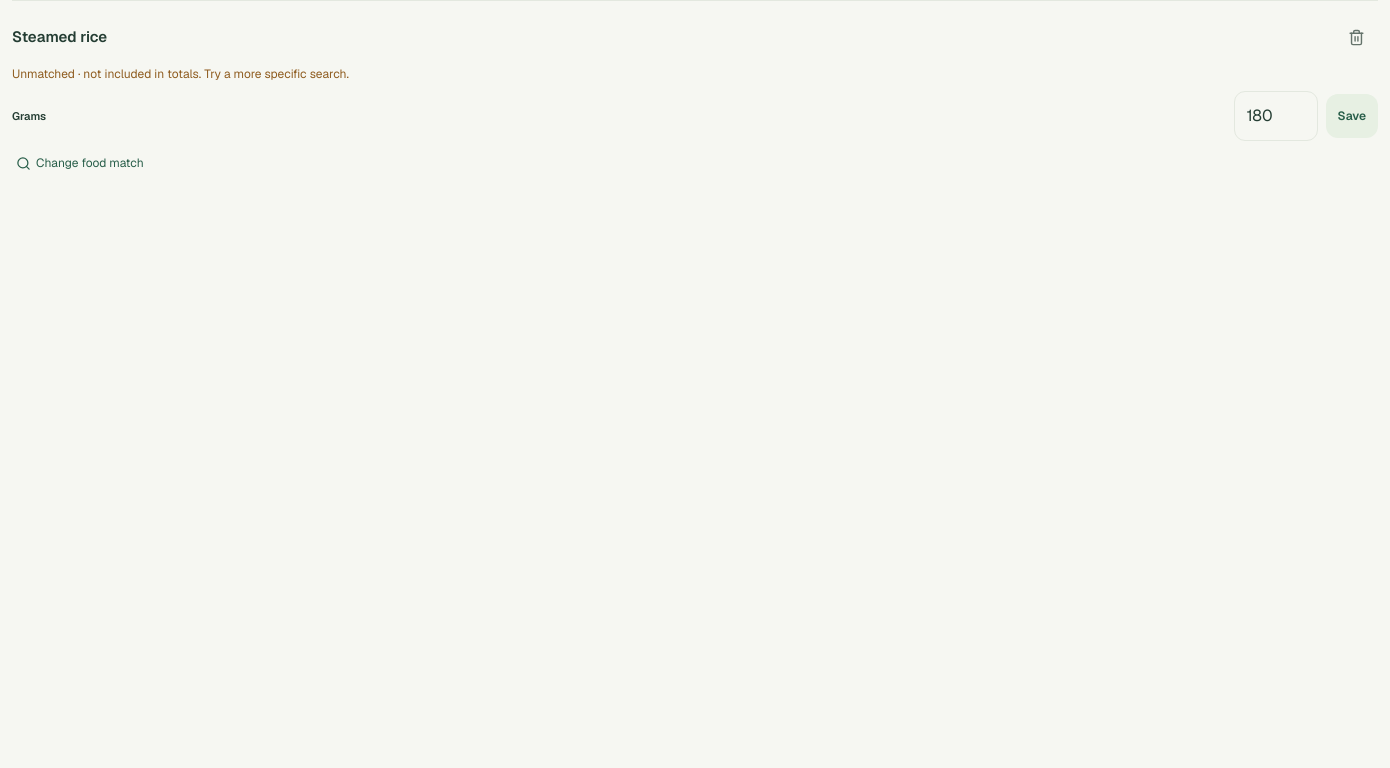
Test: changing a photo meal's food match › lists USDA matches and records the one picked
Click the button "Change food match" at x=80, y=163, box [12, 141, 148, 185]
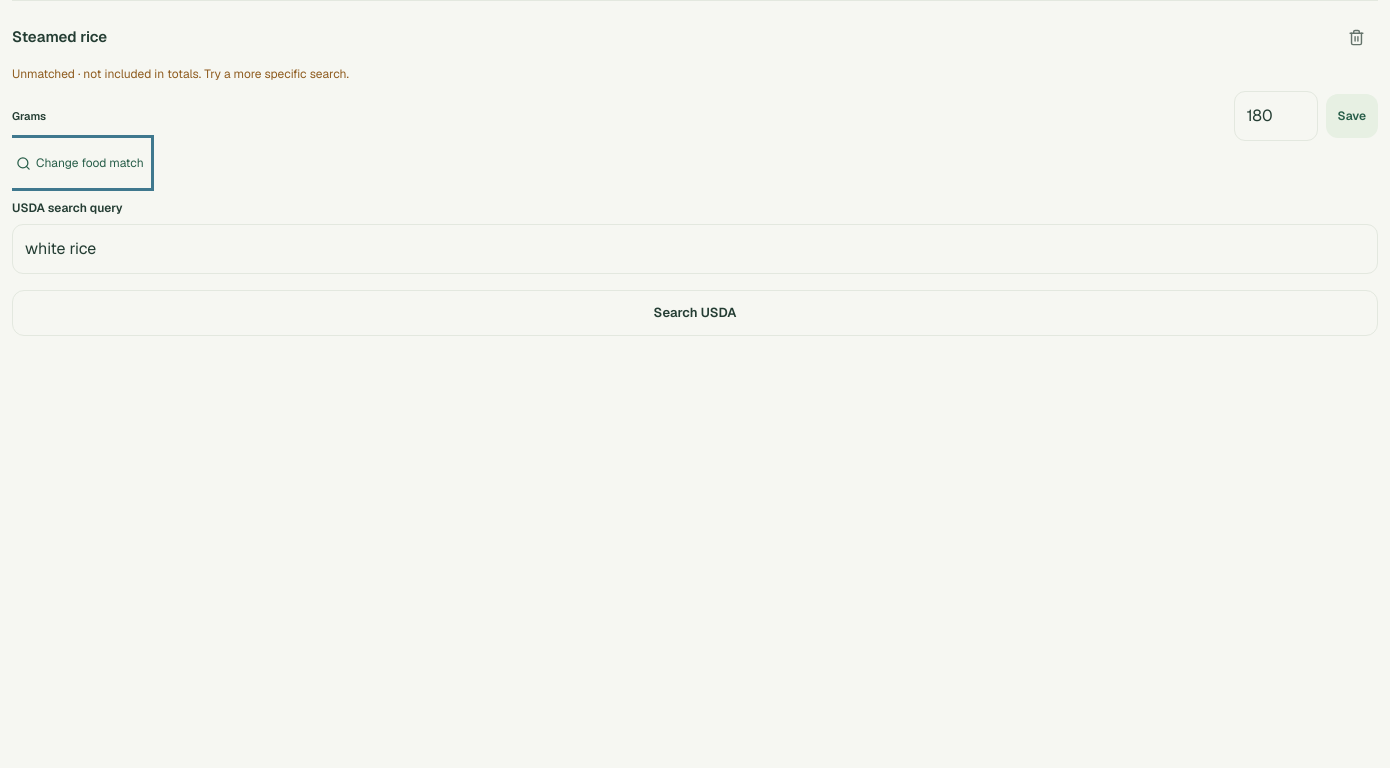
Result: the field labelled "USDA search query" holds "white rice"
Replace the text in the field labelled "USDA search query" with "  long grain   rice " at x=695, y=249, box [12, 224, 1378, 274]
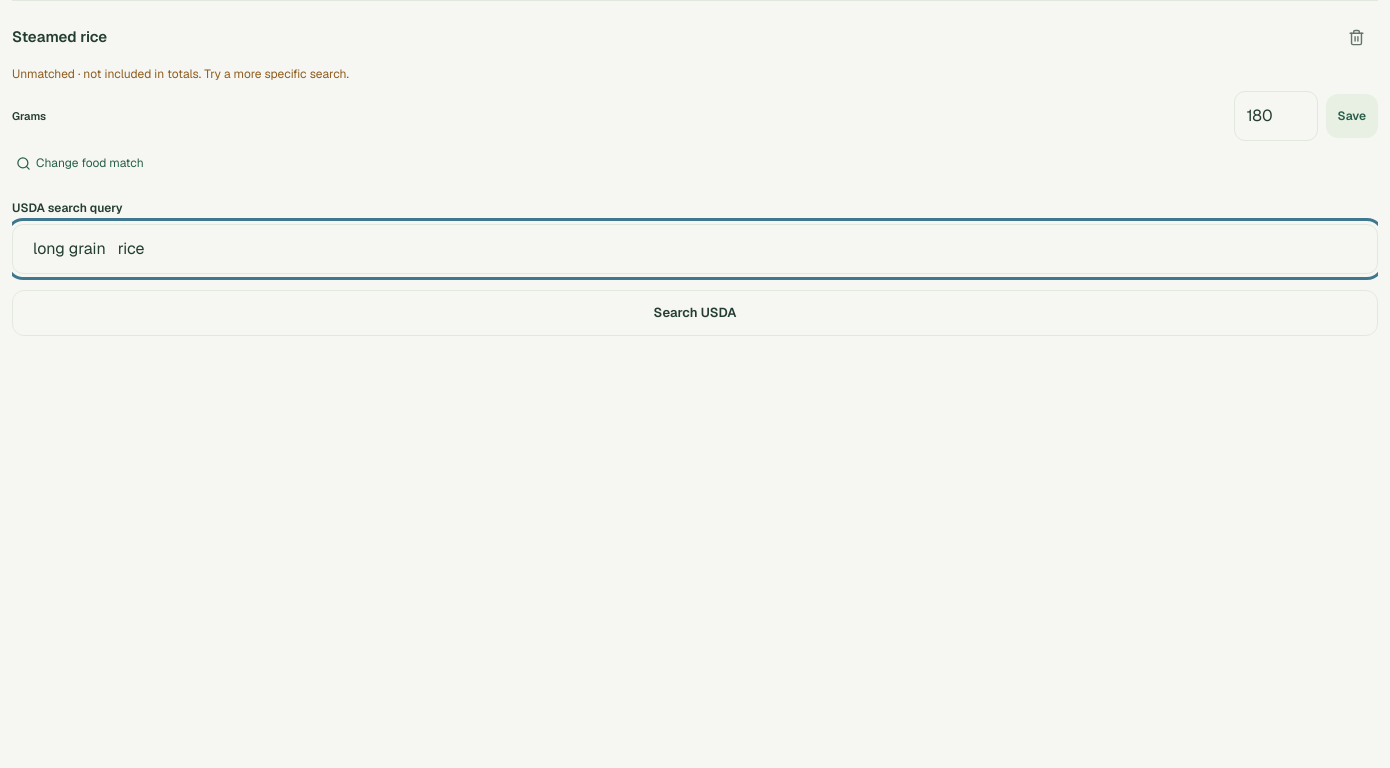
Click the button "Search USDA" at x=695, y=313, box [12, 290, 1378, 336]
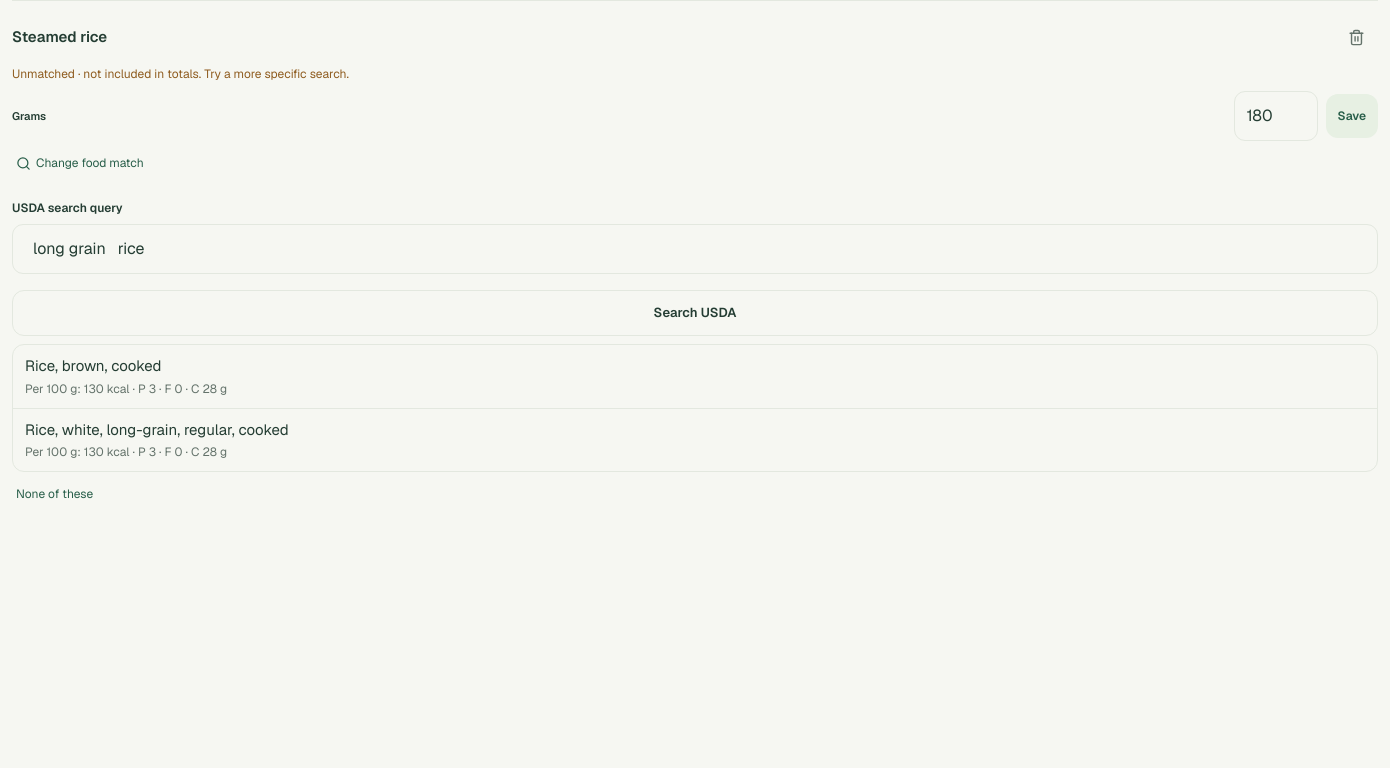
Click the button "long-grain" at x=157, y=429, box [13, 408, 1377, 471]
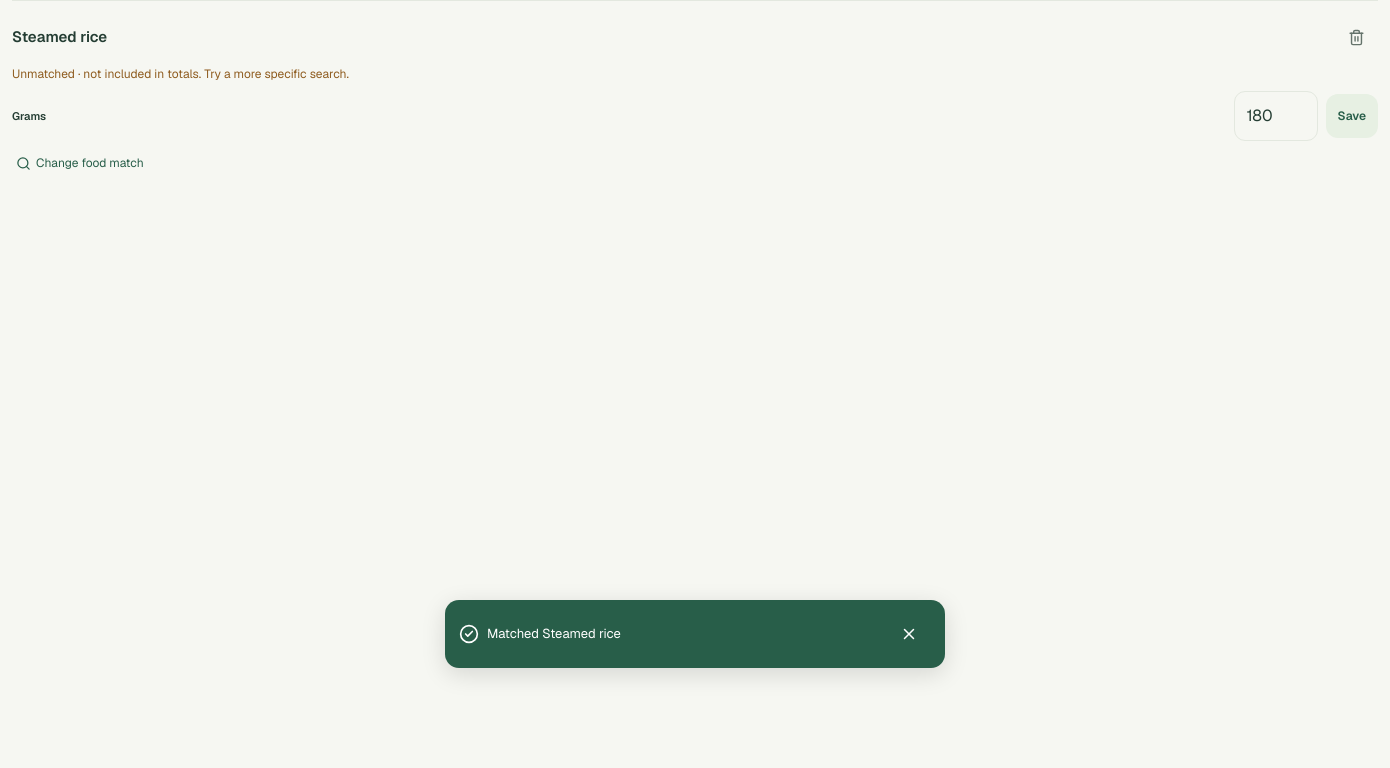
Result: the text "Matched Steamed rice" is shown at [487, 625, 621, 642]
Result: the label labelled "USDA search query" is gone
